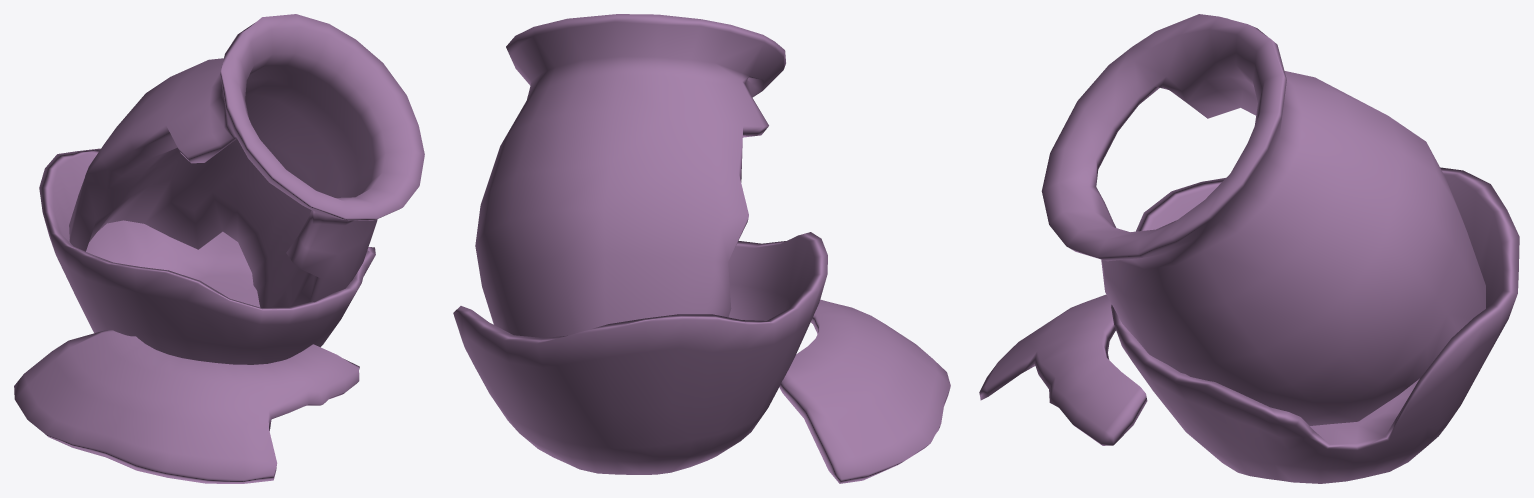
Rendered from Jar_Break_04B_Lod0.fbx.
3 renders of one model, left to right at view 1: azimuth 30°, elevation 25°; view 2: azimuth 150°, elevation 25°; view 3: azimuth 270°, elevation 25°, orthographic. The views are drawn at different scales.
Parts seen in each view (by area): view 1: Jar_Break_04B_Lod0; view 2: Jar_Break_04B_Lod0; view 3: Jar_Break_04B_Lod0.
Boxes of the visible parts, <box> form: Jar_Break_04B_Lod0: <box>14,14,424,483</box>; Jar_Break_04B_Lod0: <box>453,14,950,483</box>; Jar_Break_04B_Lod0: <box>979,14,1519,483</box>.
Bounding box in the file's own units: 47.47 × 43.65 × 50.18.
